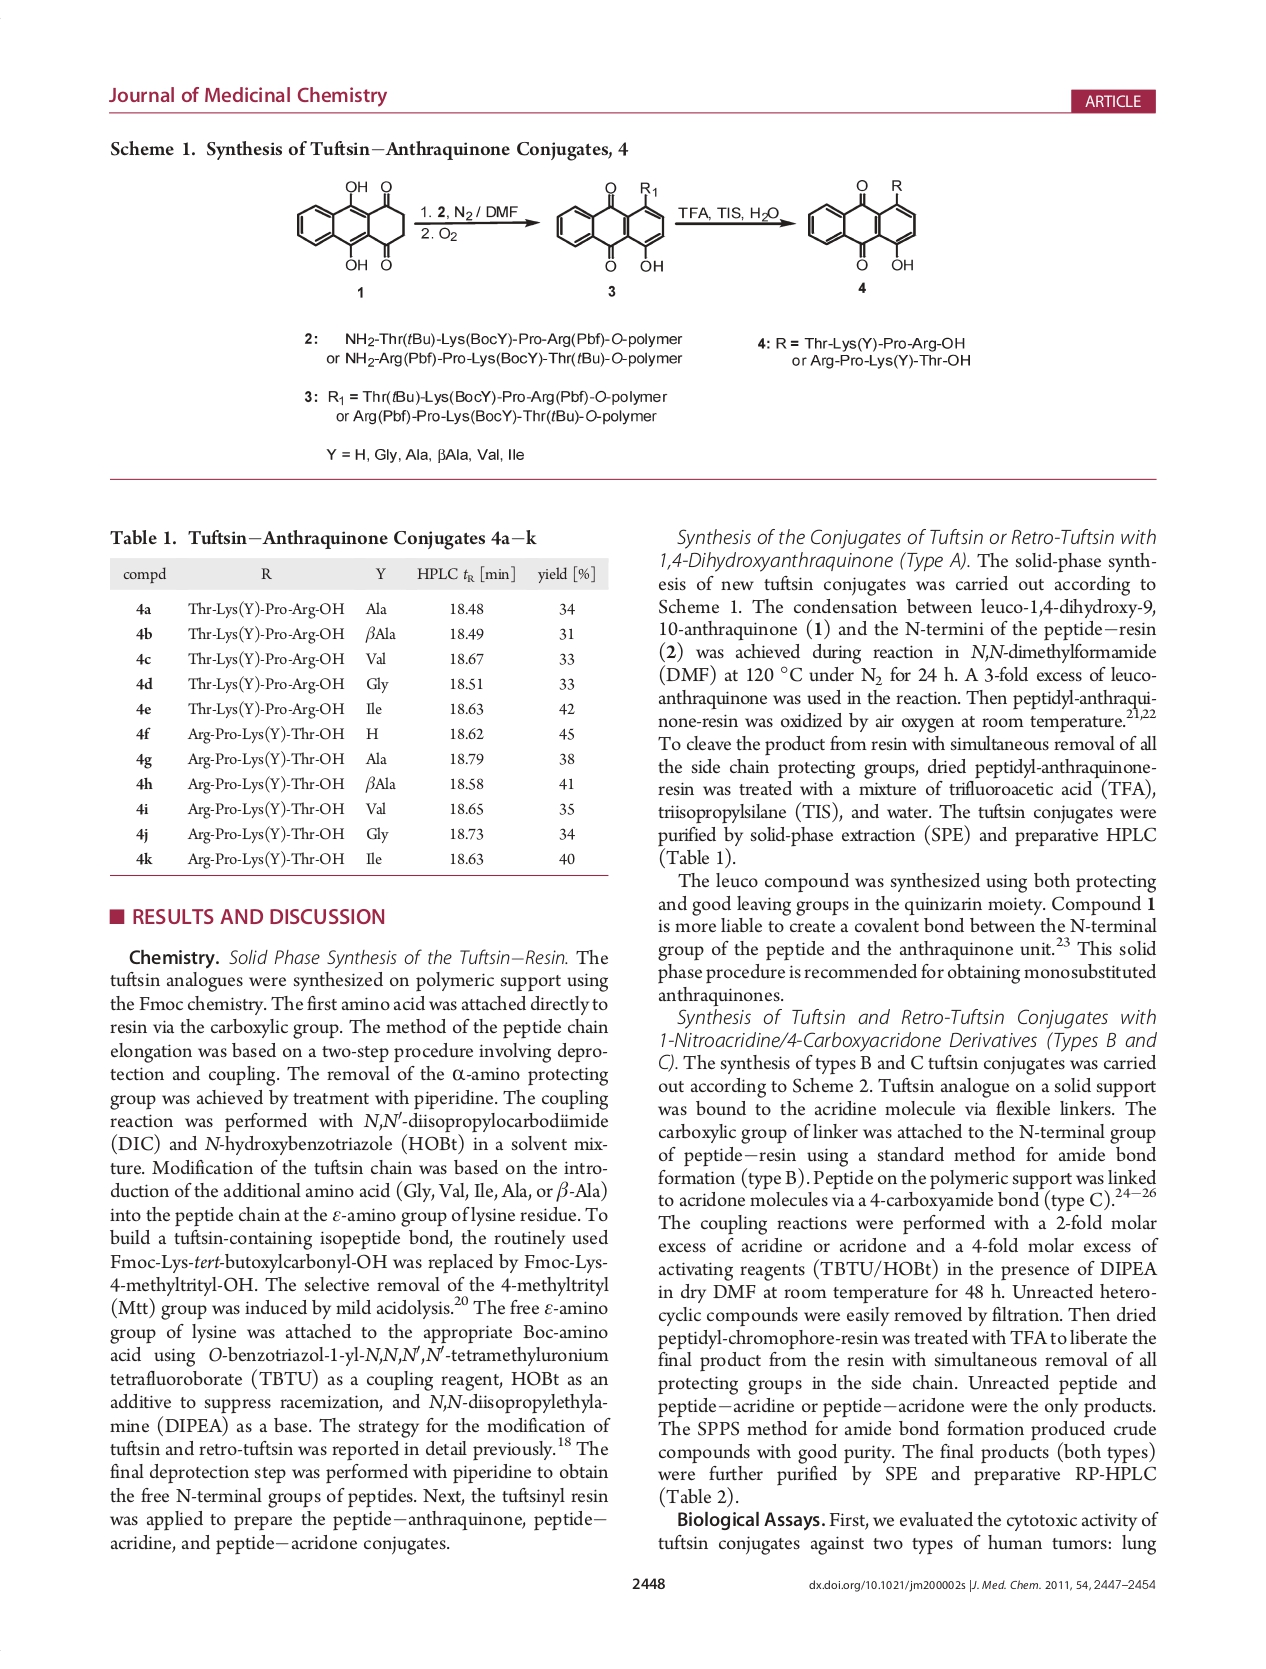exist_molecular: (802, 174, 922, 277), (551, 180, 674, 277), (291, 177, 410, 275)
